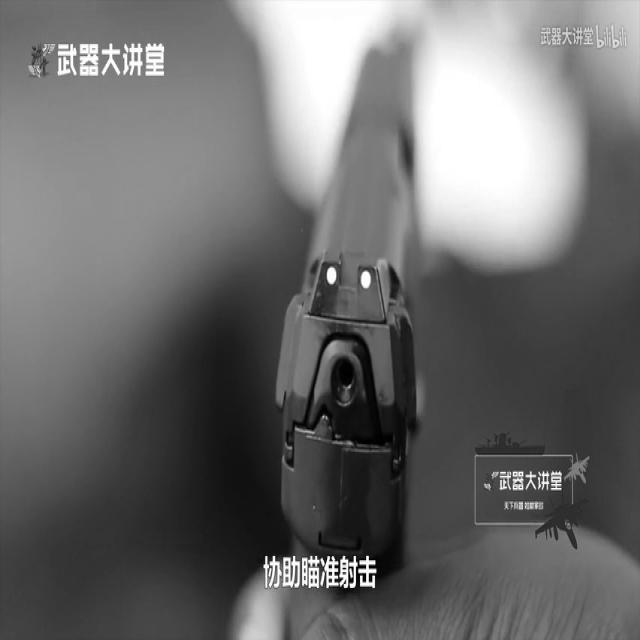Hand-Gun: (248, 0, 516, 640)
